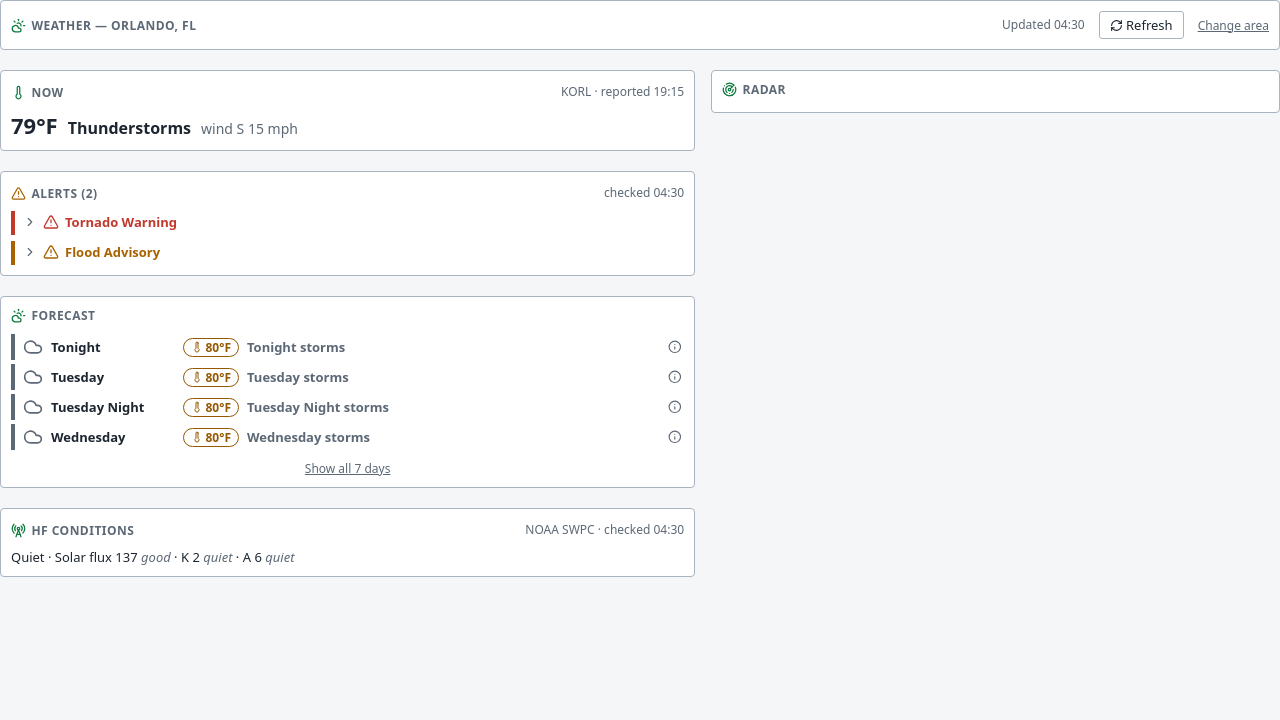
Scenario: WeatherTab (NWSA-013) › shows four forecast periods, the rest on request
Expected: the text "Tonight storms" is shown, [247,338,345,356]
Expected: the text "Wednesday Night storms" is not shown
Click the button "Show all 7 days": (348, 468) [11,460,684,477]
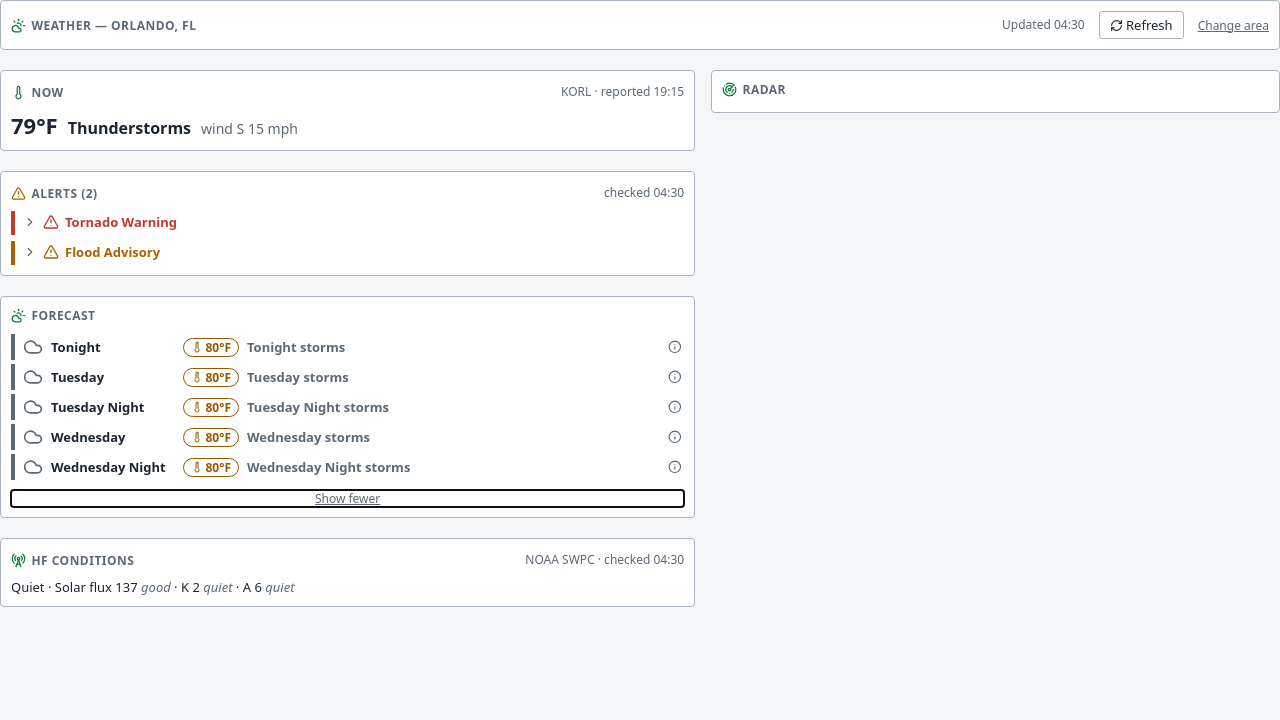
Now the text "Wednesday Night storms" is shown, box [247,458,410,476]
